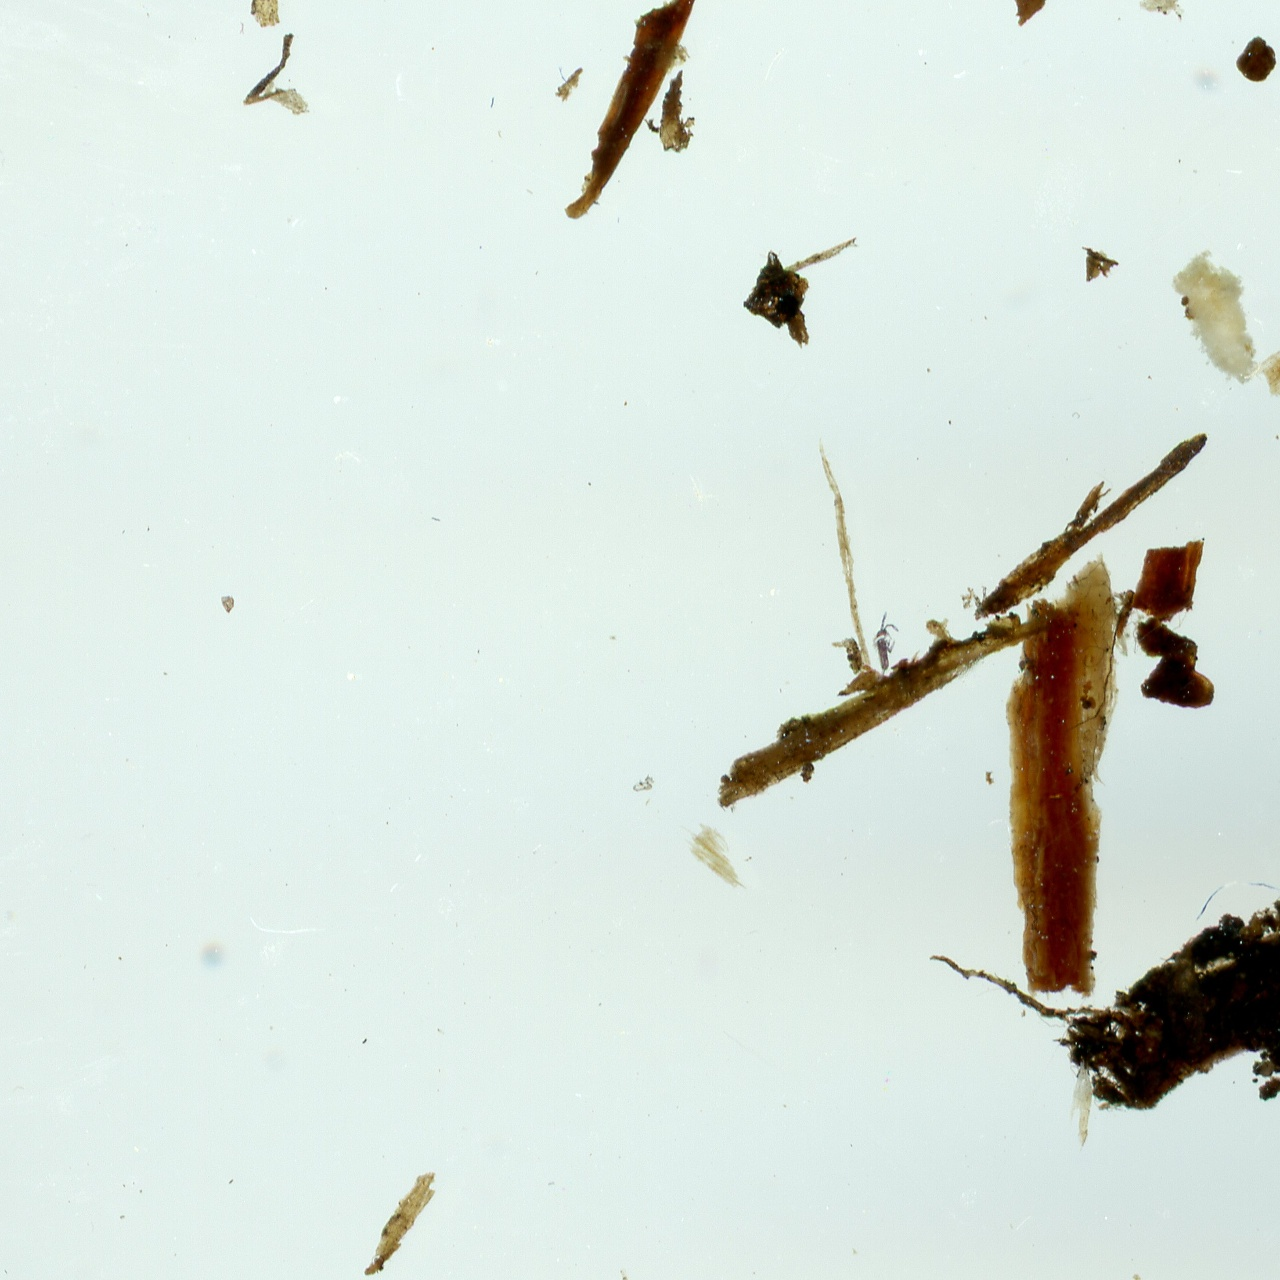arthropod: (869, 608, 901, 683)
